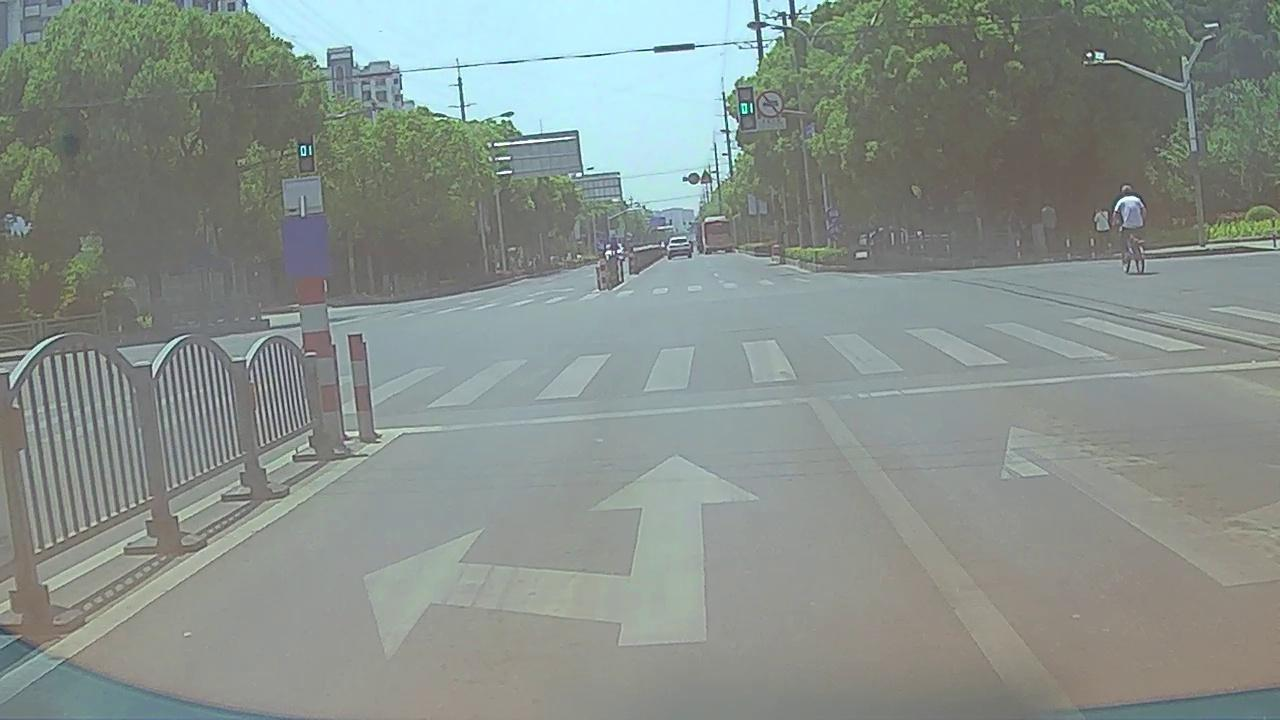traffic_light: (737, 88, 757, 132), (295, 137, 315, 175)
